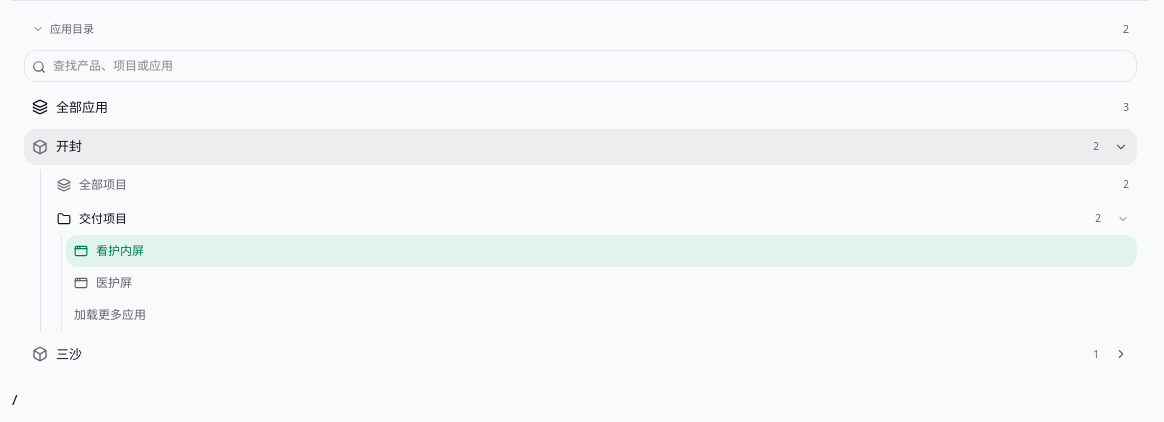
后续页中的当前应用先定位，加载更多后去重且保留首批条目
The width and height of the screenshot is (1164, 422).
Click the button "加载更多应用" at (110, 314), box left=66, top=298, right=154, bottom=330
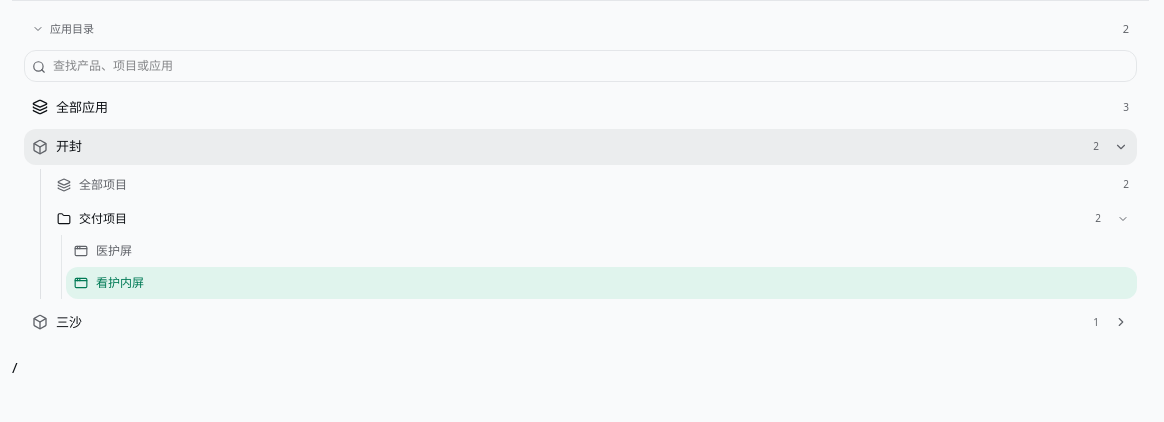
expect the number of links "看护内屏" is 1: met, box left=66, top=266, right=1137, bottom=298
expect the button "加载更多应用" is gone: met
